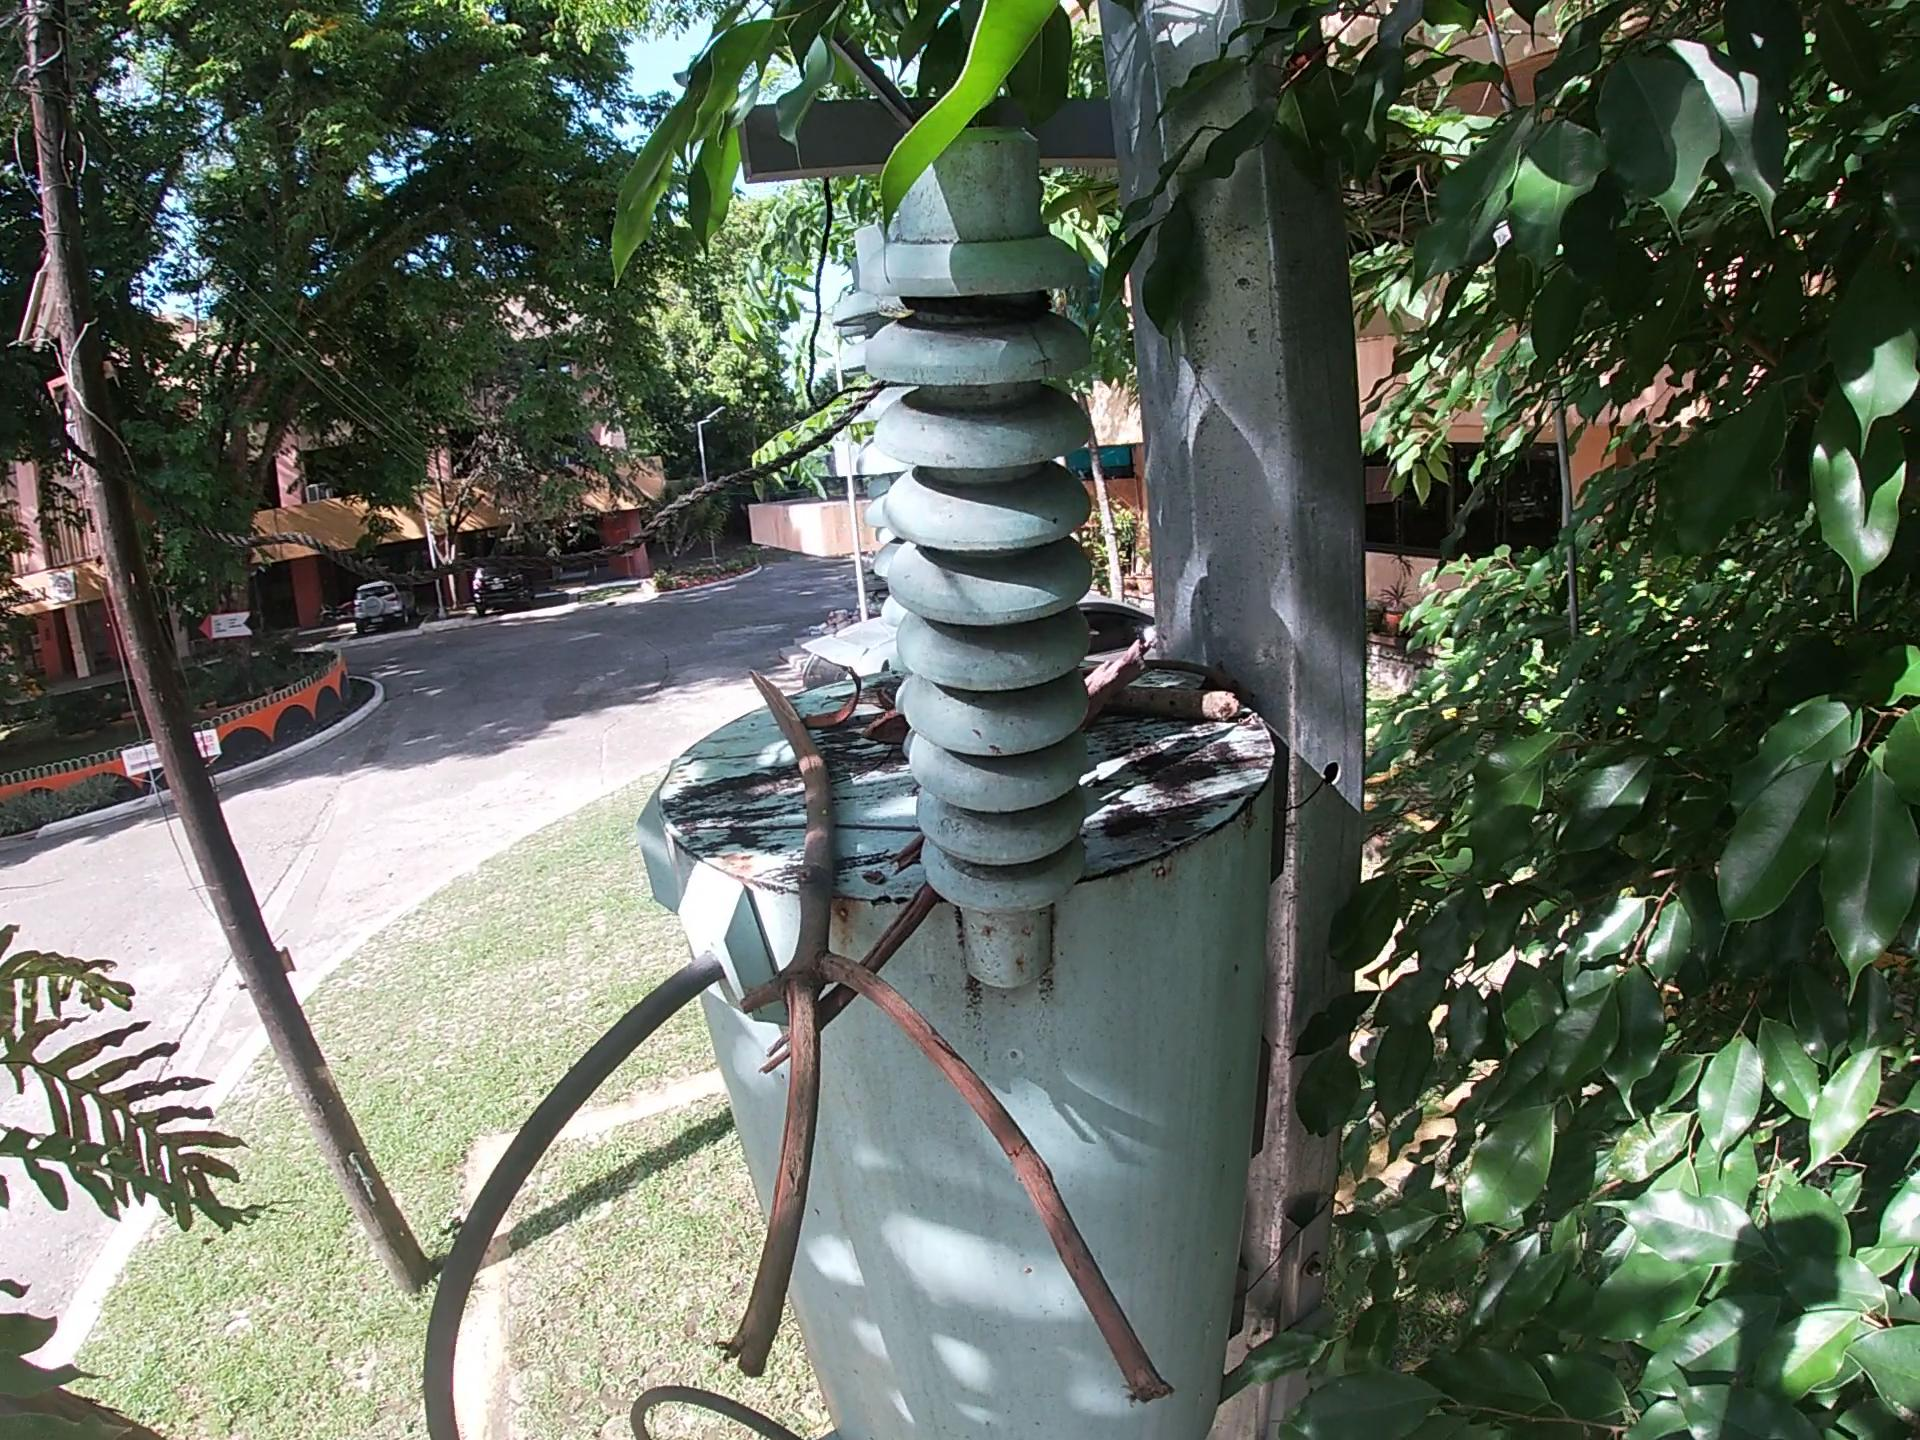mahogany fruit: (798, 663, 866, 732), (860, 703, 910, 749)
tree branch: (695, 664, 1182, 1417), (753, 877, 949, 1086), (1143, 650, 1258, 703), (1104, 684, 1246, 726), (1082, 637, 1152, 717)
